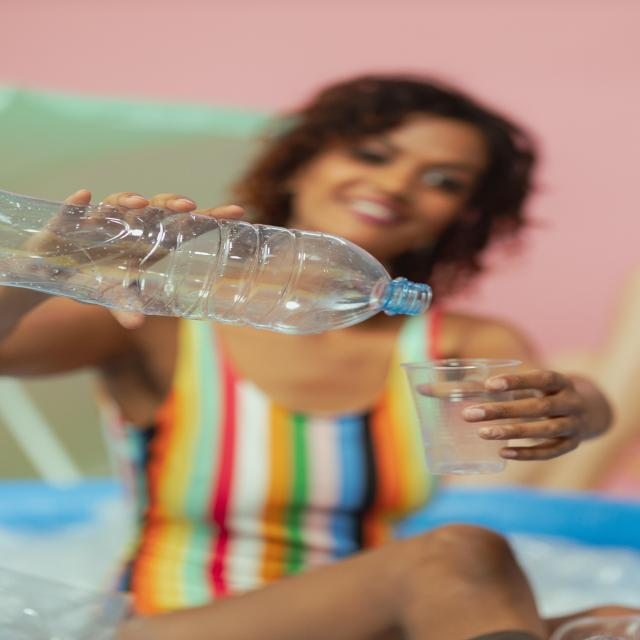bottle: (0, 173, 442, 350)
